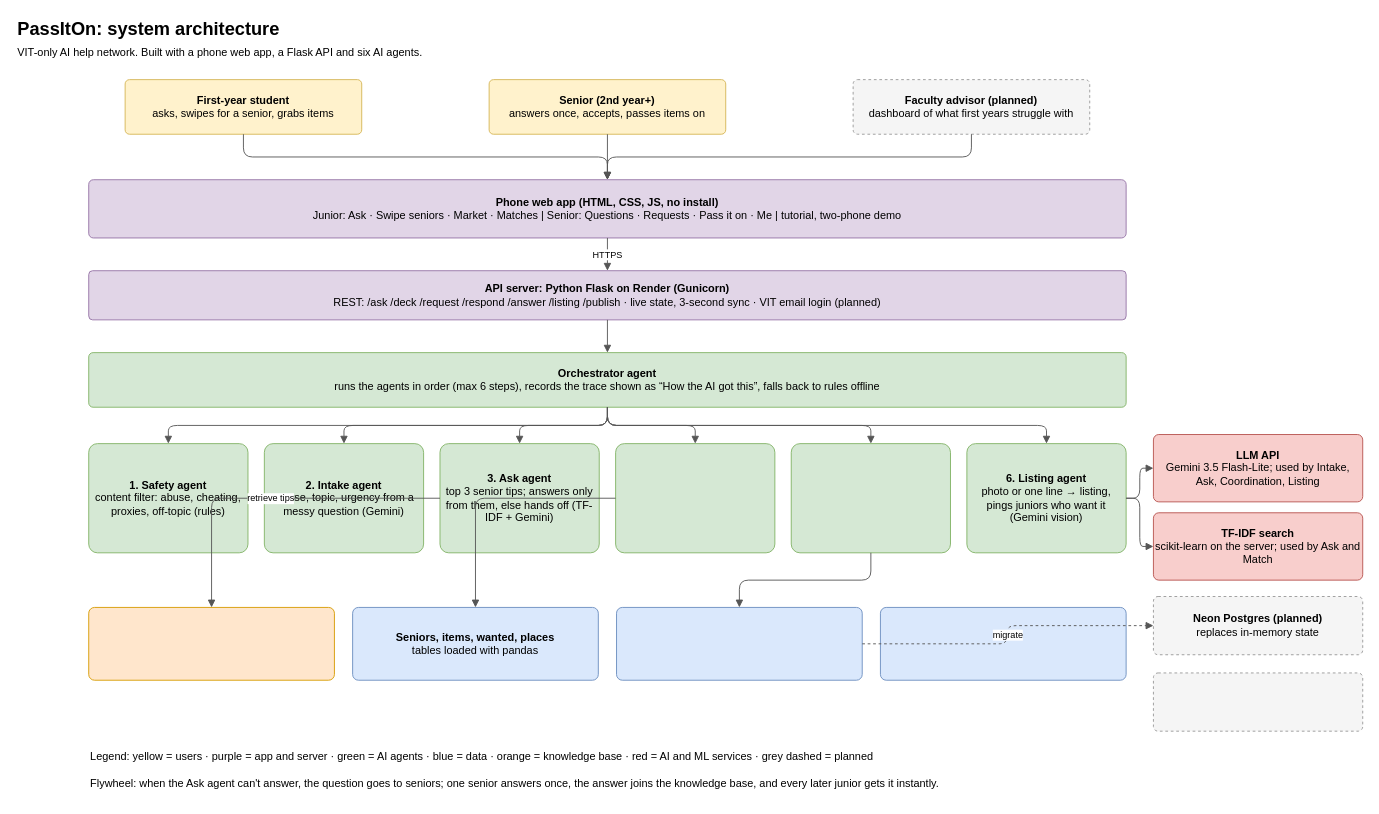
The diagram is 1379 pixels wide and 814 high, and some of its shapes have lost their labels. The centre of each missing label's shape, as x and y in pixels:
4. Match agent ranks seniors: course 45%, topic, rating, reply rate, free soon: (x=695, y=498)
5. Coordination agent free slot, campus spot, drafts the first message (Gemini): (x=870, y=498)
GitHub → Render every push redeploys: (x=1258, y=701)
Knowledge base senior-approved tips; each new senior answer is added: (x=211, y=643)
Live state (in memory) requests, matches, questions, points: (x=739, y=643)
Survey dataset 27 real responses; shapes rows, market, free help: (x=1003, y=643)
